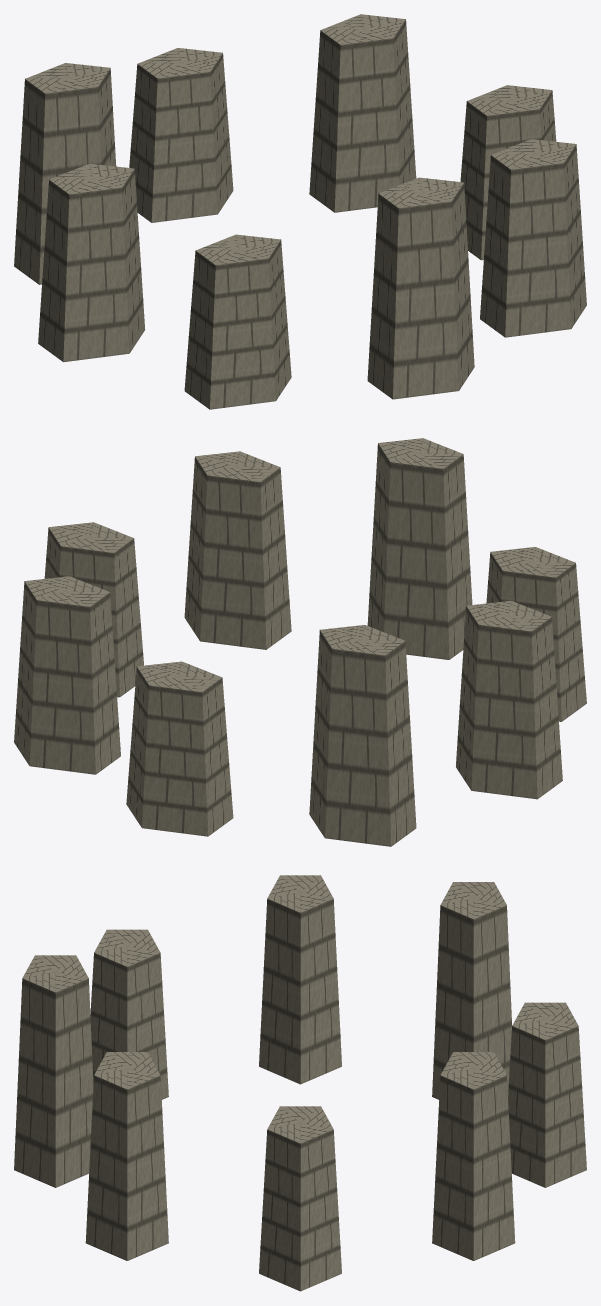
The model's file is military-STONE_MAZE-1-lod0.glb.
3 renders of one model, top to bottom at view 1: azimuth 30°, elevation 25°; view 2: azimuth 150°, elevation 25°; view 3: azimuth 270°, elevation 25°, orthographic.
Bounding box in the file's own units: 0.6866 × 0.24 × 0.6551.
1 material, 1 textured.
